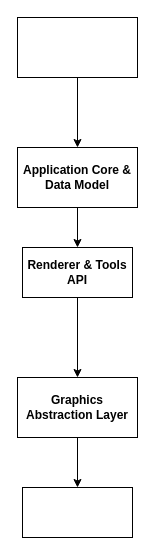
The diagram is 155 pixels wide and 560 high, and some of its shapes have lost their labels. The shapes that lost their labels are listed below. From the top down, each one's centre as x and y in pixels, then its label:
At pixel 77 47: "UI Layer".
At pixel 77 512: "Platform & Core Foundation".
